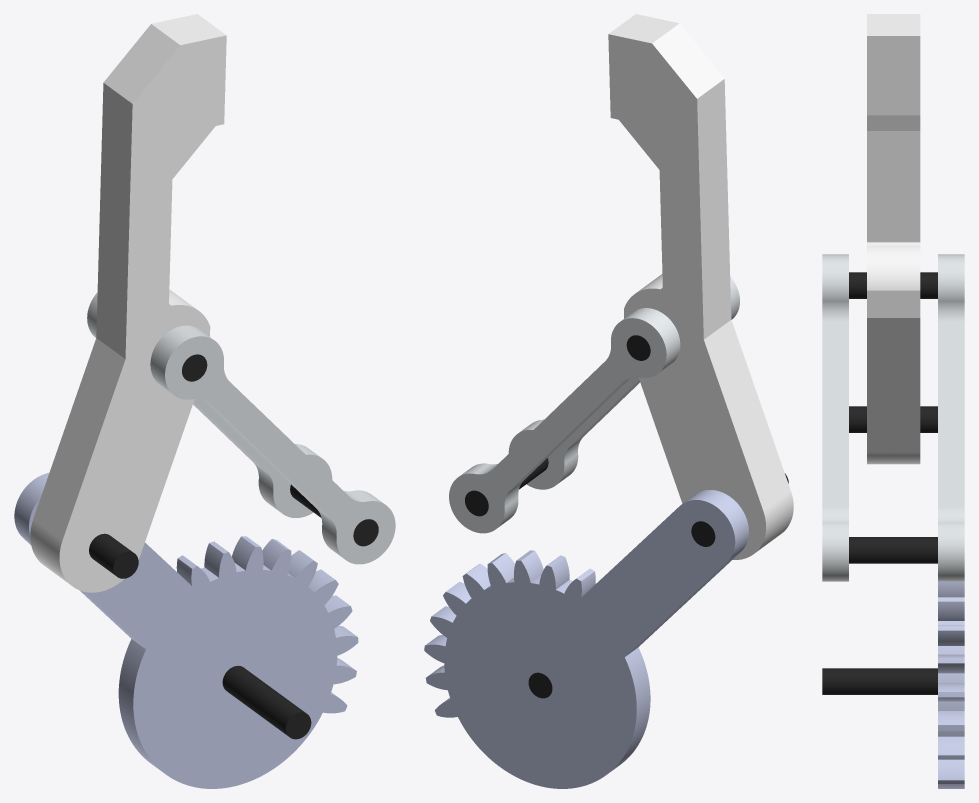
Rendered from pinza_A.obj.
The picture shows the model from 3 angles, left to right: view 1: azimuth 30°, elevation 25°; view 2: azimuth 150°, elevation 25°; view 3: azimuth 270°, elevation 25°; orthographic projection. The views are drawn at different scales.
Parts seen in each view (by area): view 1: Cut_Extrude2, Cut_Extrude1, Fillet1, Boss_Extrude1; view 2: Cut_Extrude1, Cut_Extrude2, Fillet1, Boss_Extrude1; view 3: Cut_Extrude2, Fillet1, Boss_Extrude1, Cut_Extrude1.
Part boxes in pixels (<box>): Cut_Extrude2: <box>30,14,226,592</box>; Cut_Extrude1: <box>14,472,358,788</box>; Fillet1: <box>87,292,395,564</box>; Boss_Extrude1: <box>89,354,378,739</box>; Cut_Extrude1: <box>424,490,748,788</box>; Cut_Extrude2: <box>608,14,793,559</box>; Fillet1: <box>449,277,739,533</box>; Boss_Extrude1: <box>465,335,788,698</box>; Cut_Extrude2: <box>867,14,920,464</box>; Fillet1: <box>822,254,964,581</box>; Boss_Extrude1: <box>822,272,937,694</box>; Cut_Extrude1: <box>938,581,964,788</box>.
Size of the model in its own units: 1.58 by 3.53 by 0.6299.
